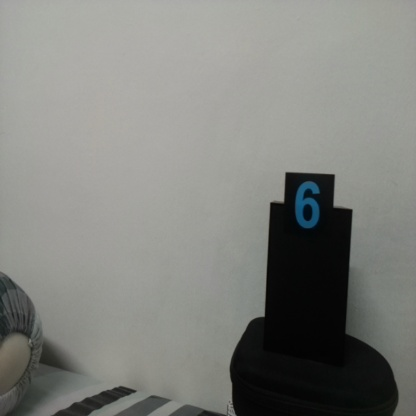id_6: (284, 170, 334, 251)
